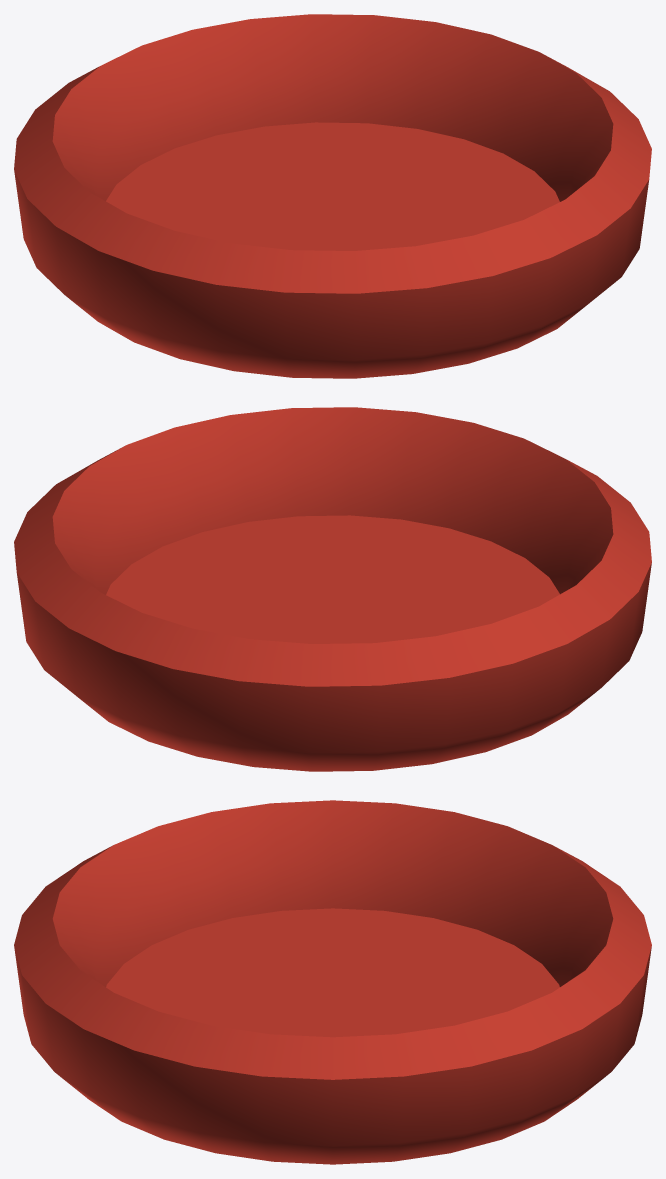
The model's file is cat_bed.glb.
3 views of the same model, one above another, from view 1: azimuth 30°, elevation 25°; view 2: azimuth 150°, elevation 25°; view 3: azimuth 270°, elevation 25° (orthographic).
Parts seen in each view (by area): view 1: bed; view 2: bed; view 3: bed.
Part boxes in pixels (bbox=[...]): bed: bbox=[14, 14, 651, 378]; bed: bbox=[14, 407, 651, 771]; bed: bbox=[14, 800, 651, 1164].
Size of the model in its own units: 0.66 by 0.15 by 0.66.
